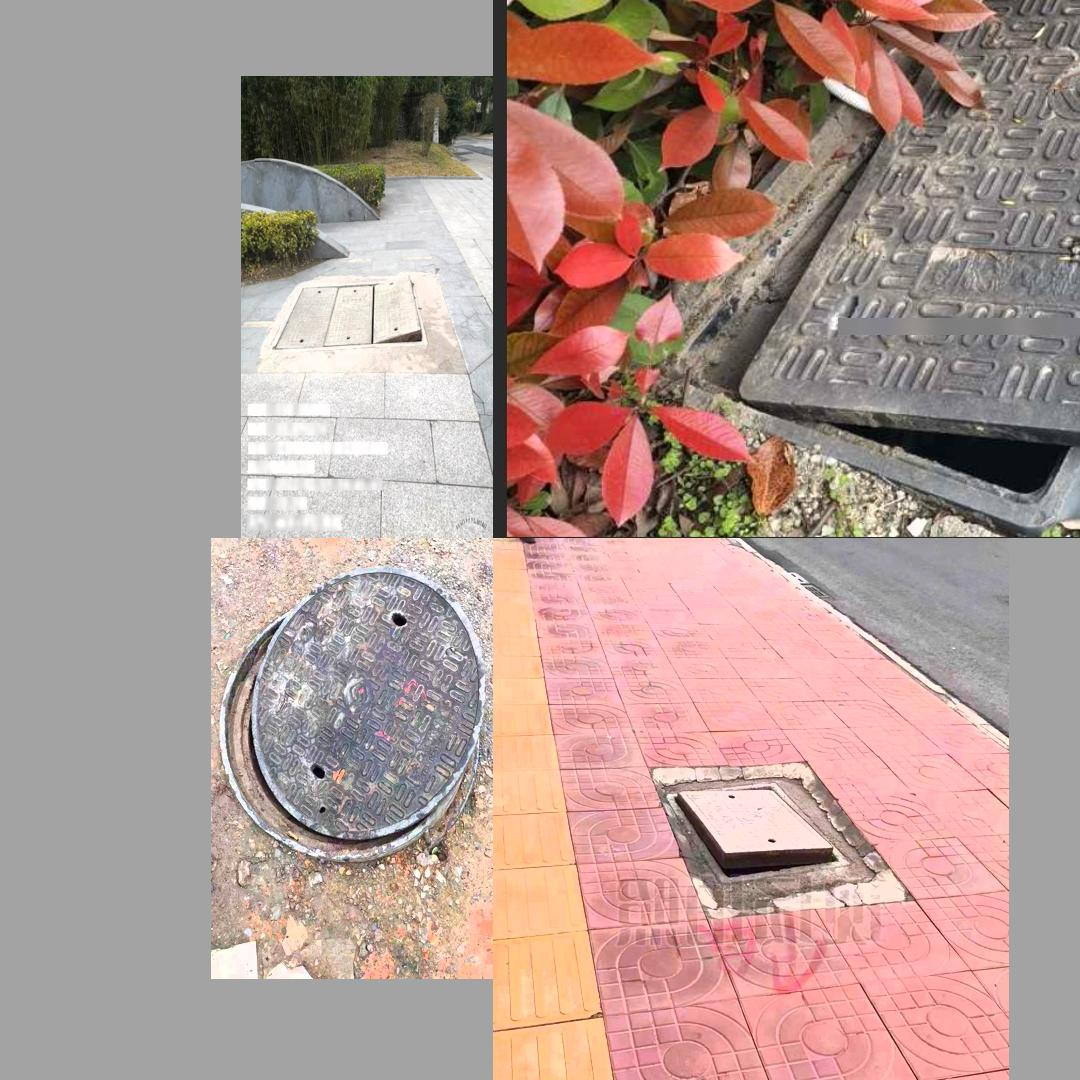uncovered: (633, 0, 1080, 482), (217, 563, 485, 861), (676, 758, 834, 913), (271, 276, 427, 356)
